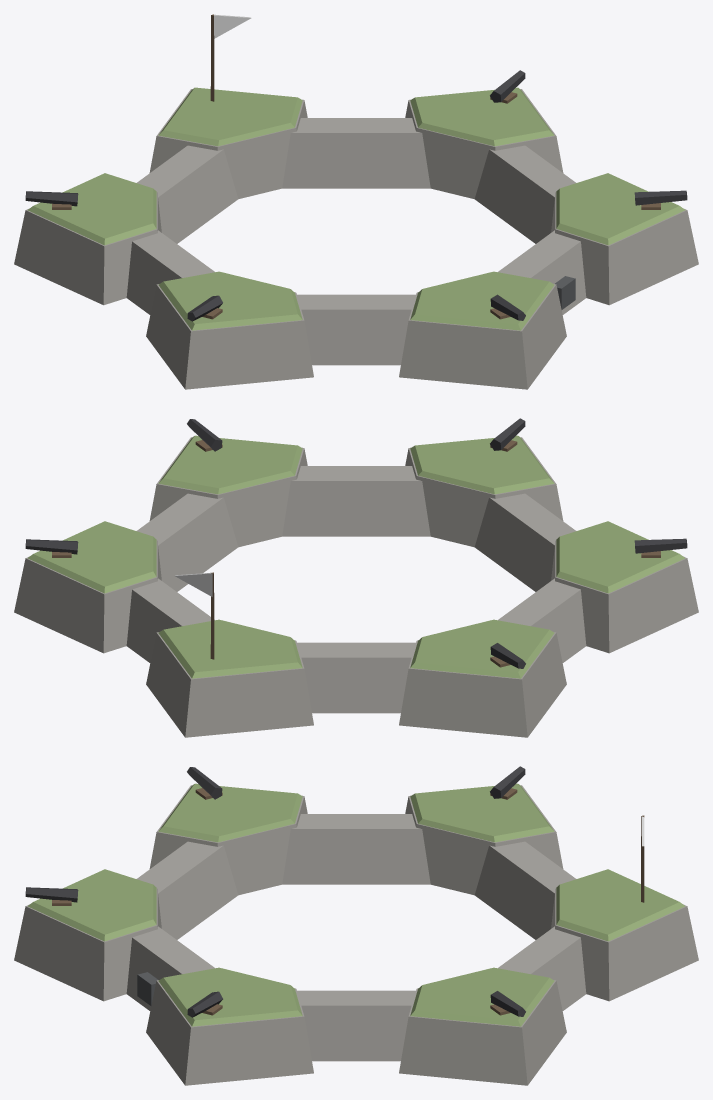
The model's file is fort.glb.
The picture shows the model from 3 angles, top to bottom: view 1: azimuth 30°, elevation 25°; view 2: azimuth 150°, elevation 25°; view 3: azimuth 270°, elevation 25°; orthographic projection.
Visible parts, largest first — view 1: LOD0; view 2: LOD0; view 3: LOD0.
Part boxes in pixels (x1,y1,x2,y2): LOD0: [14, 14, 698, 389]; LOD0: [14, 418, 698, 737]; LOD0: [14, 766, 698, 1085].
Size of what is drawn, in the model's own units: 1.49 by 0.4 by 1.72.
